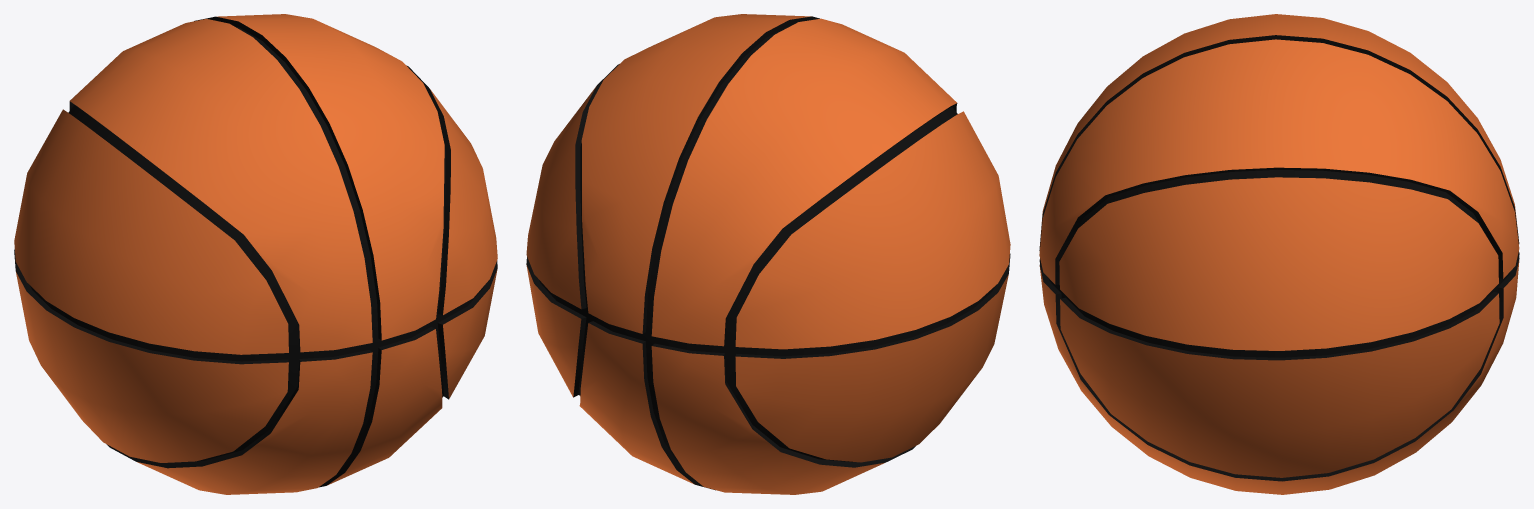
File: basketball.glb
3 views of the same model, side by side, from view 1: azimuth 30°, elevation 25°; view 2: azimuth 150°, elevation 25°; view 3: azimuth 270°, elevation 25° (orthographic).
Visible parts, largest first — view 1: Basketball; view 2: Basketball; view 3: Basketball.
Part boxes in pixels (left/top/right/bottom): Basketball: left=14, top=14, right=497, bottom=494; Basketball: left=526, top=14, right=1010, bottom=494; Basketball: left=1039, top=14, right=1519, bottom=494.
Size of the model in its own units: 0.8066 by 0.8065 by 0.8078.
